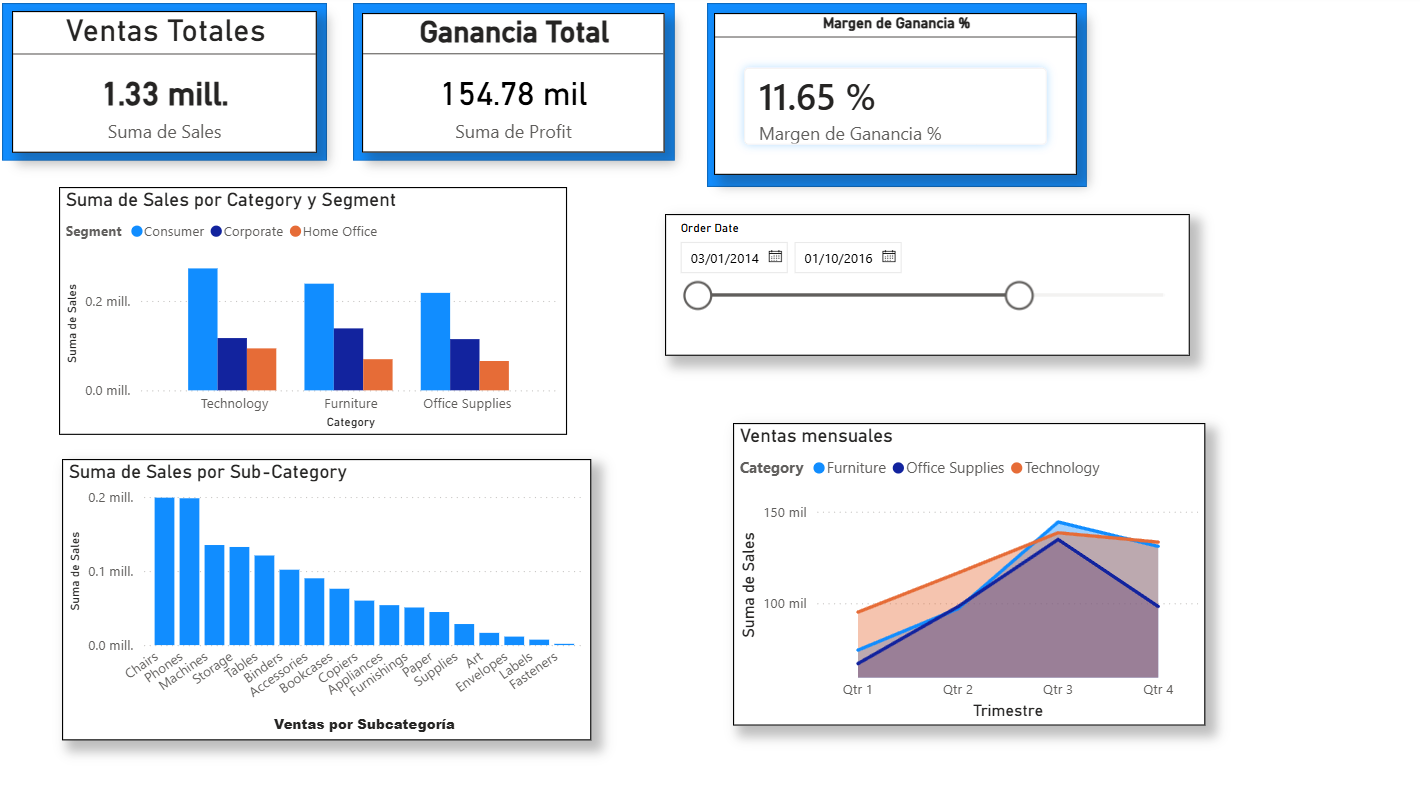

The page's visual inventory and layout, read from the dashboard file:
{"tool":"powerbi","page":{"name":"Página 1","canvas":[1280,720],"ordinal":0},"visuals":[{"type":"shape","box":[634.9,6.3,340.3,164.8],"z":0},{"type":"shape","box":[317.9,6.3,288.4,141.5],"z":1000},{"type":"card","title":"Ganancia Total","fields":{"Values":["Sum(Orders.Profit)"]},"box":[326,15.2,271.3,125.4],"z":2000},{"type":"shape","box":[3.6,6.3,291,141.5],"z":3000},{"type":"card","title":"Ventas Totales","fields":{"Values":["Sum(Orders.Sales)"]},"box":[12.5,13.4,273.1,127.2],"z":4000},{"type":"cardVisual","title":"Margen de Ganancia %","fields":{"Data":["Orders.Margen de Ganancia %"]},"box":[641.2,15.2,325.1,145.1],"z":5000},{"type":"clusteredColumnChart","fields":{"Category":["Orders.Category"],"Series":["Orders.Segment"],"Y":["Sum(Orders.Sales)"]},"box":[54.6,171,454.9,222.1],"z":6000},{"type":"clusteredColumnChart","fields":{"Category":["Orders.Sub-Category"],"Y":["Sum(Orders.Sales)"]},"box":[57.3,414.6,473.7,251.6],"z":7000},{"type":"slicer","fields":{"Values":["Orders.Order Date"]},"box":[742.4,189,488.1,164.8],"z":8000},{"type":"lineChart","title":"Ventas mensuales","fields":{"Category":["Orders.Order Date.Variación.Jerarquía de fechas.Trimestre","Orders.Order Date.Variación.Jerarquía de fechas.Mes","Orders.Order Date.Variación.Jerarquía de fechas.Día"],"Y":["Sum(Orders.Sales)"],"Series":["Orders.Category"]},"box":[672.5,435.2,422.7,271.3],"z":9000}]}

Visuals, with their boxes in screenshot pixels (x1, y1, x2, y2), scaled from the page's 1280x720 canvas onto the 1420x790 screenshot:
shape: BBox(704, 7, 1082, 188)
shape: BBox(353, 7, 673, 162)
"Ganancia Total" card: BBox(362, 17, 663, 154)
shape: BBox(4, 7, 327, 162)
"Ventas Totales" card: BBox(14, 15, 317, 154)
"Margen de Ganancia %" cardVisual: BBox(711, 17, 1072, 176)
clusteredColumnChart - Orders.Category x Orders.Segment: BBox(61, 188, 565, 431)
clusteredColumnChart - Orders.Sub-Category x Sum(Orders.Sales): BBox(64, 455, 589, 731)
slicer - Orders.Order Date: BBox(824, 207, 1365, 388)
"Ventas mensuales" lineChart: BBox(746, 478, 1215, 775)
